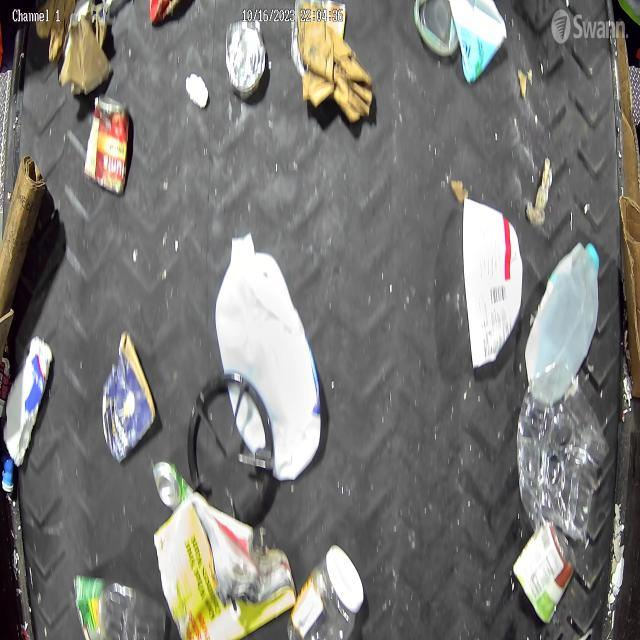can: (512, 514, 578, 624), (216, 11, 268, 104), (84, 89, 130, 193), (150, 454, 188, 509)
milk_jug: (215, 228, 325, 494), (520, 242, 605, 407)
